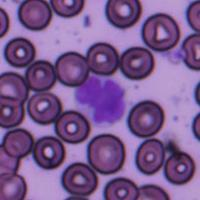M: (73, 73, 127, 126)
